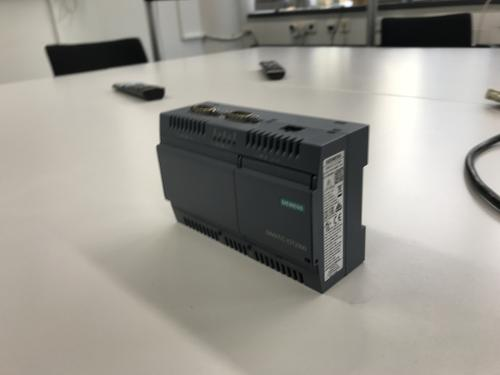device: (156, 100, 369, 294)
